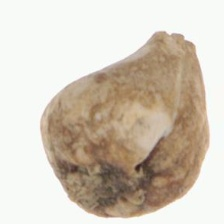L1: (59, 163, 134, 219), (154, 30, 197, 51)
L2: (40, 31, 211, 218)
